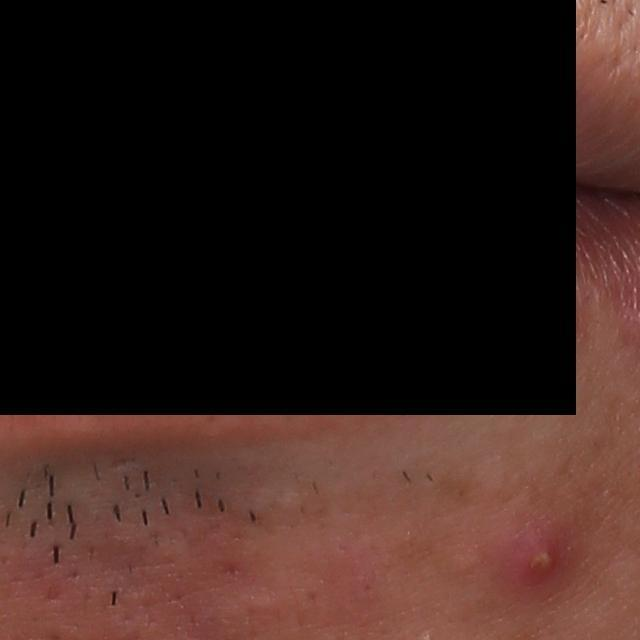pustule: (503, 523, 578, 599)
